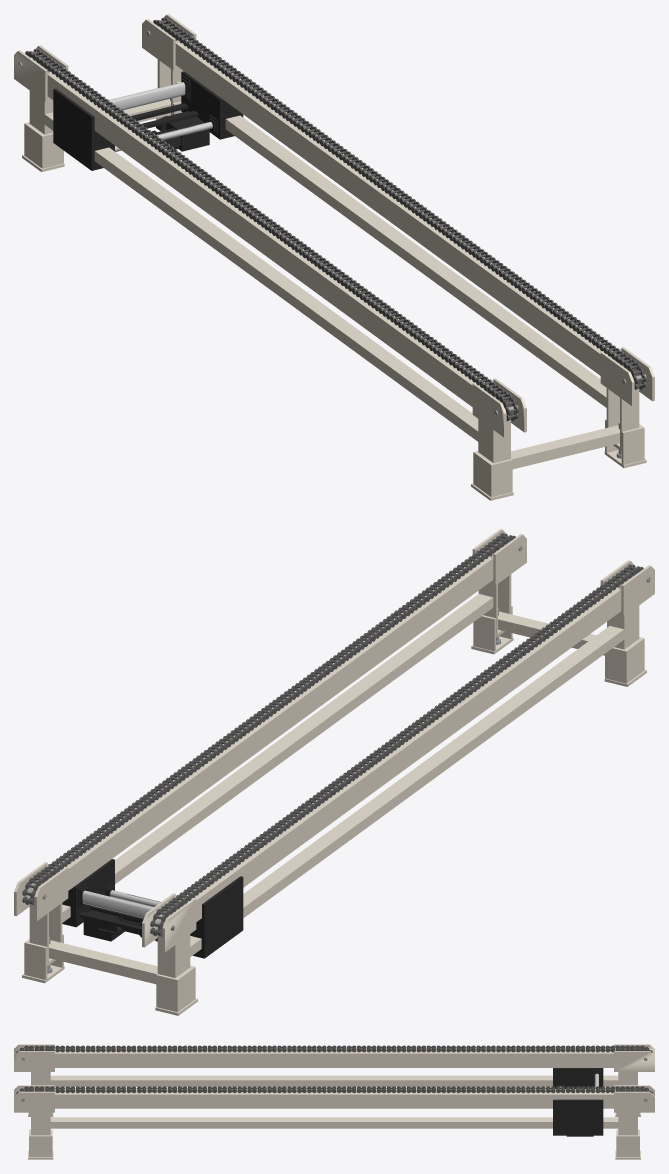
File: chain-medium-long.glb
3 renders of one model, top to bottom at view 1: azimuth 30°, elevation 25°; view 2: azimuth 150°, elevation 25°; view 3: azimuth 270°, elevation 25°, orthographic. The views are drawn at different scales.
Visible parts, largest first — view 1: chain-medium-long__三链机体004, chain-medium-long__链条003, chain-medium-long__电机007, chain-medium-long__轴007__fixed; view 2: chain-medium-long__三链机体004, chain-medium-long__链条003, chain-medium-long__电机007, chain-medium-long__轴007__fixed; view 3: chain-medium-long__三链机体004, chain-medium-long__链条003, chain-medium-long__电机007.
Boxes of the visible parts, <box> form: chain-medium-long__三链机体004: <box>14,14,654,500</box>; chain-medium-long__链条003: <box>25,18,646,421</box>; chain-medium-long__电机007: <box>53,71,243,170</box>; chain-medium-long__轴007__fixed: <box>109,82,185,110</box>; chain-medium-long__三链机体004: <box>14,529,654,1015</box>; chain-medium-long__链条003: <box>22,533,643,937</box>; chain-medium-long__电机007: <box>62,859,243,958</box>; chain-medium-long__轴007__fixed: <box>82,890,153,918</box>; chain-medium-long__三链机体004: <box>14,1044,654,1159</box>; chain-medium-long__链条003: <box>16,1045,652,1093</box>; chain-medium-long__电机007: <box>553,1068,603,1136</box>.
Bounding box in the file's own units: 1.47 × 0.9256 × 7.99.
